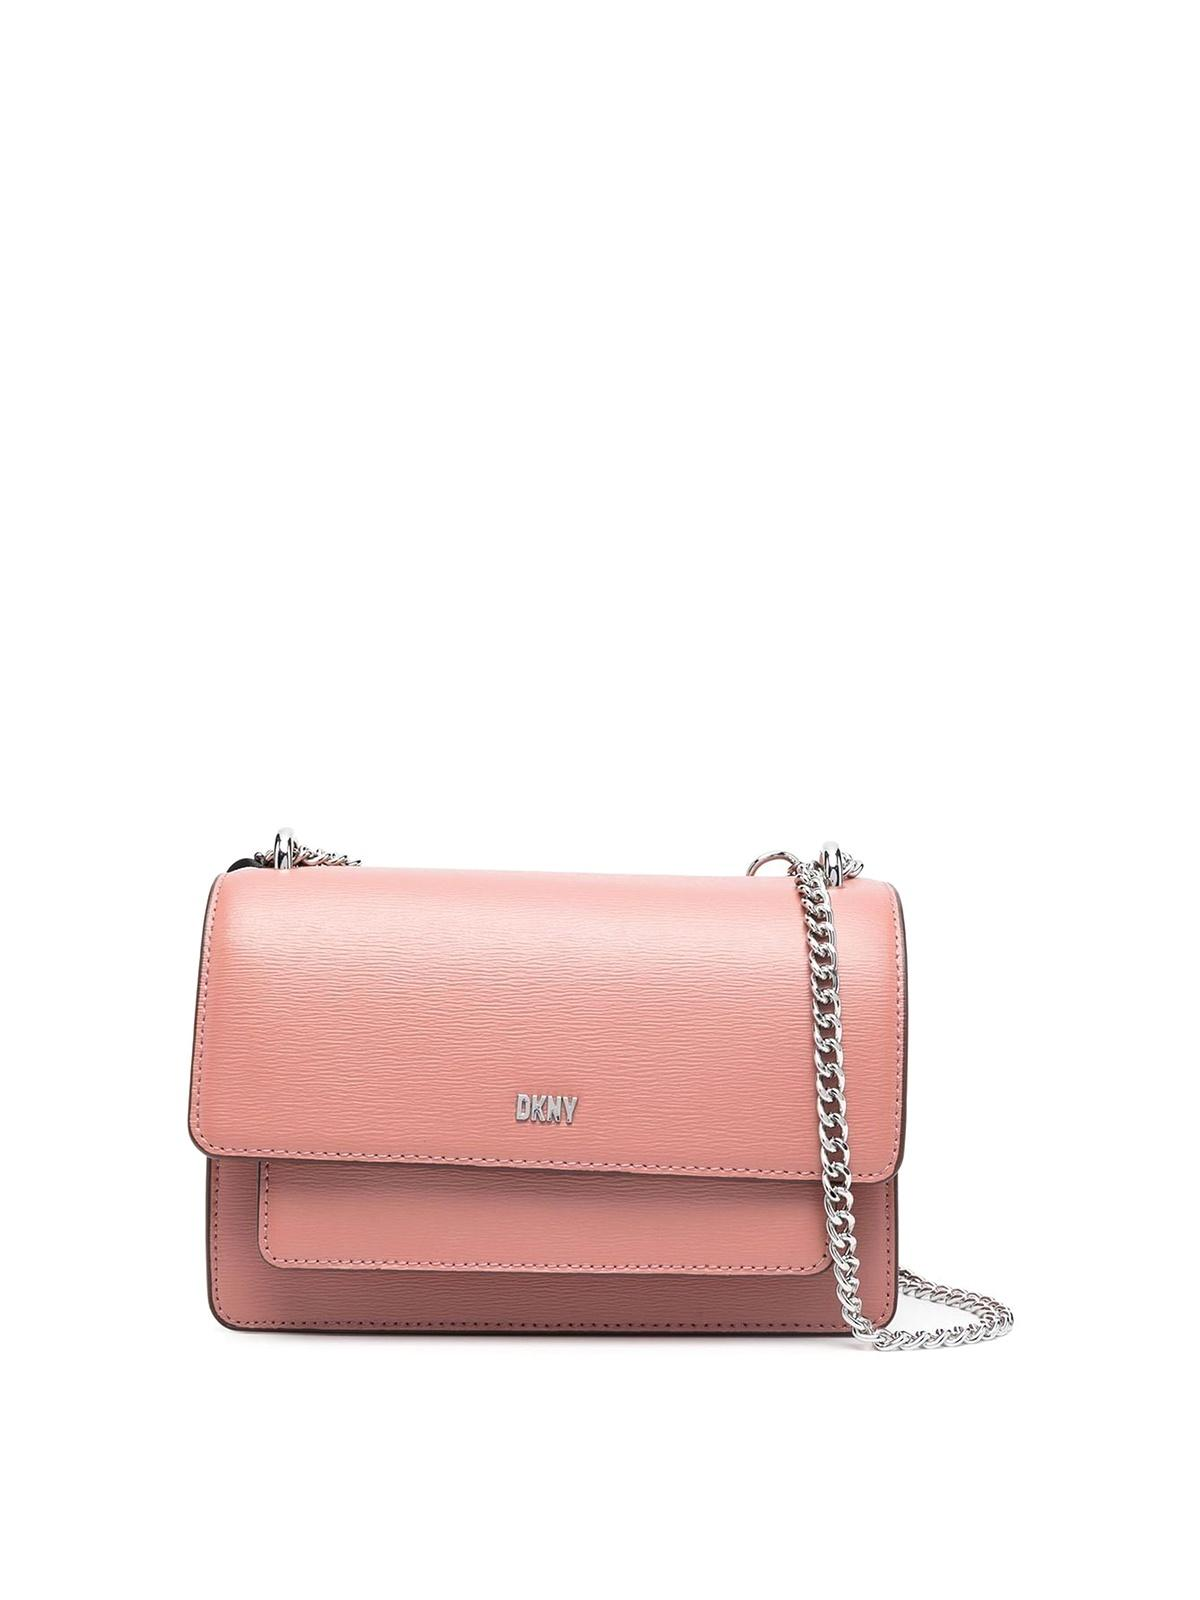DKNY: (516, 1094, 577, 1124)
